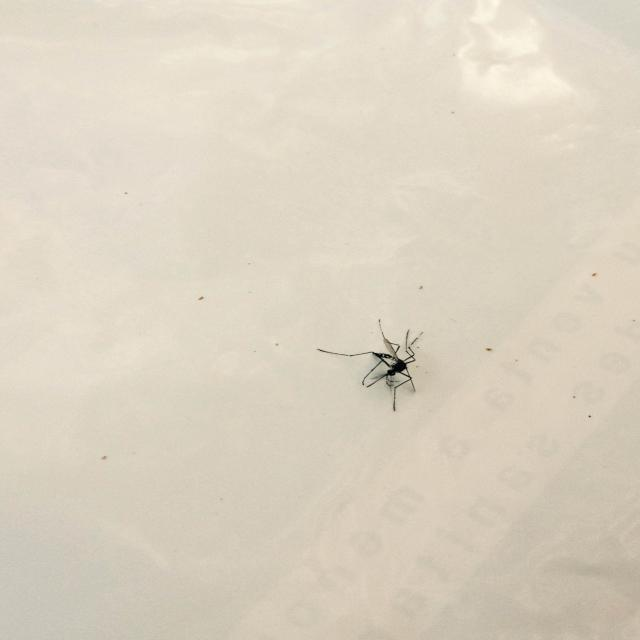albopictus: (314, 312, 431, 411)
